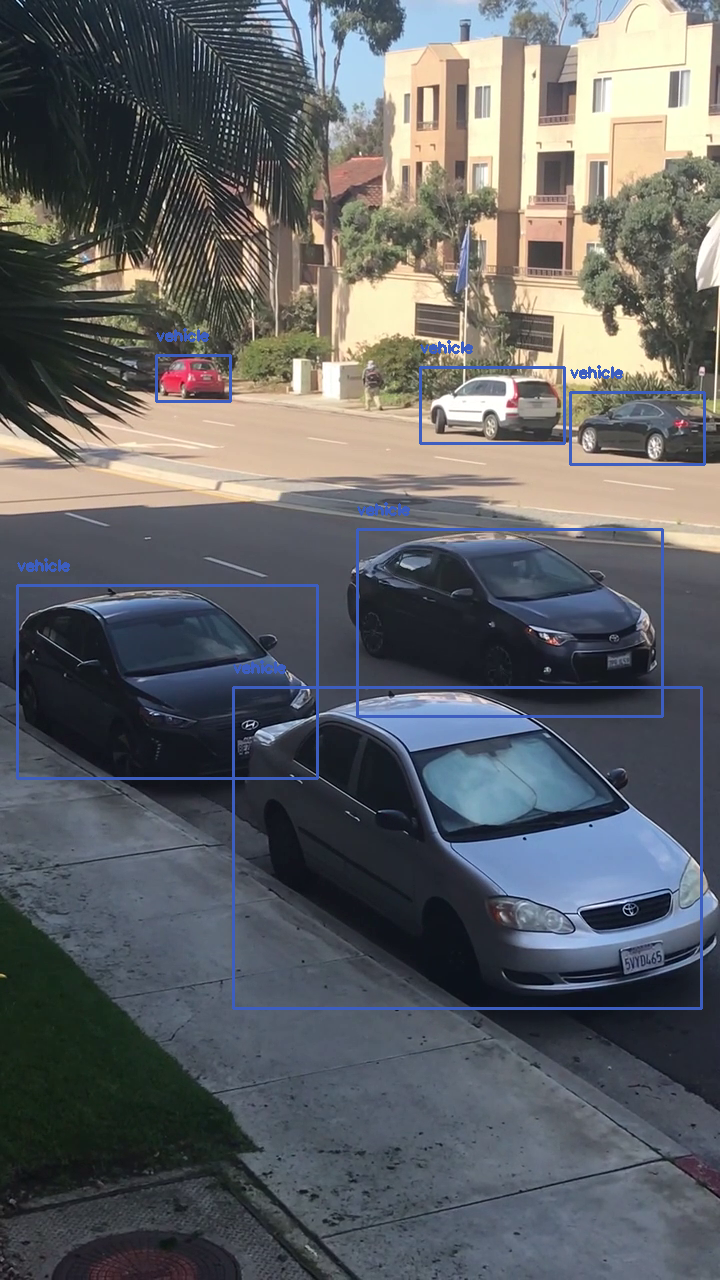vehicle: (233, 687, 701, 1008), (17, 585, 317, 778), (357, 529, 662, 716), (420, 367, 564, 443), (570, 392, 704, 464), (156, 355, 230, 401)
